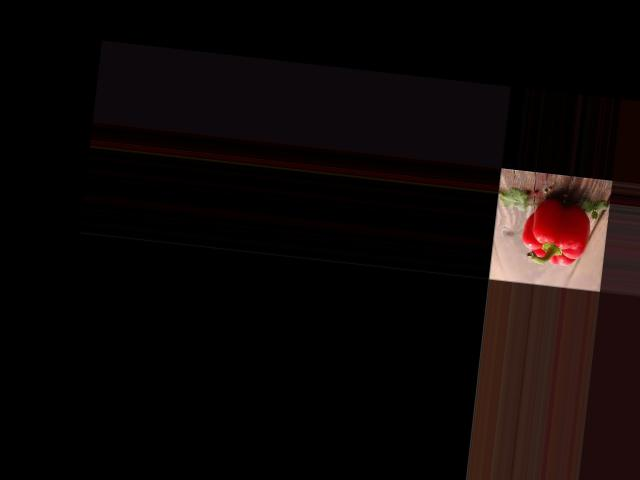bell_pepper: (515, 194, 597, 273)
